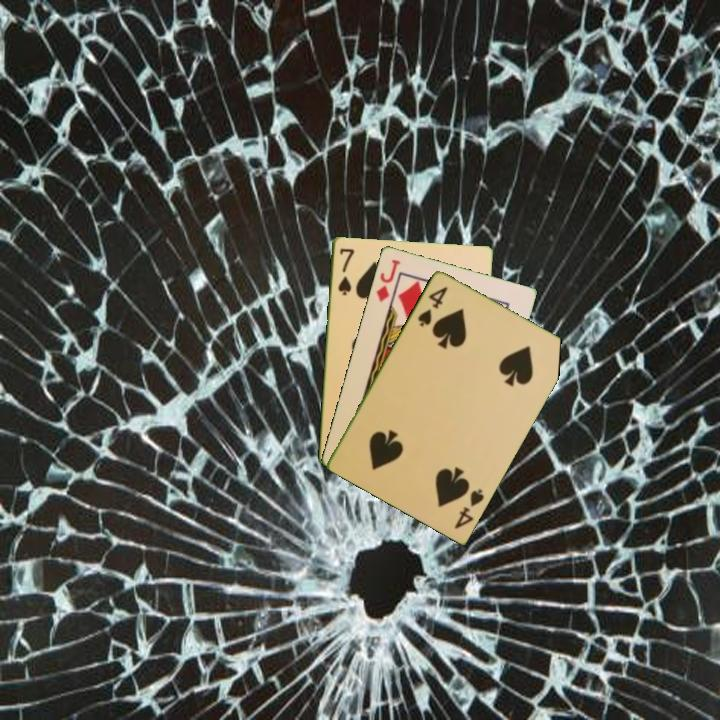4s: (414, 282, 451, 329), (450, 485, 487, 532)
7s: (334, 245, 357, 298)
Jd: (372, 255, 403, 304)
